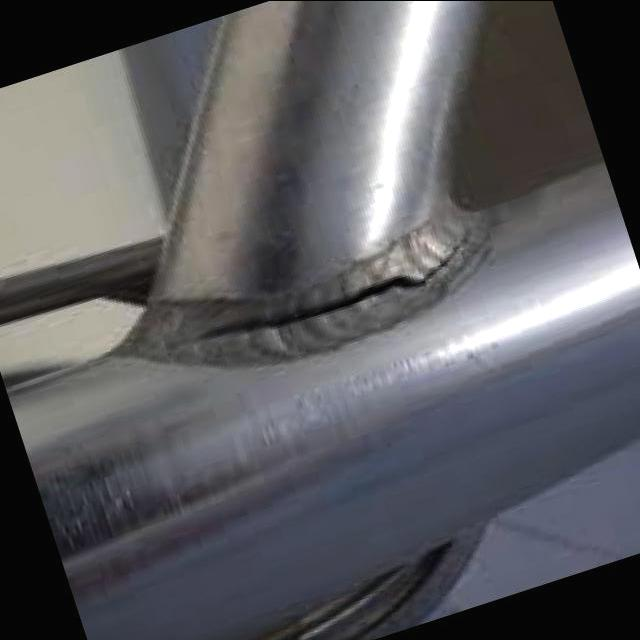defect: (150, 224, 475, 351)
